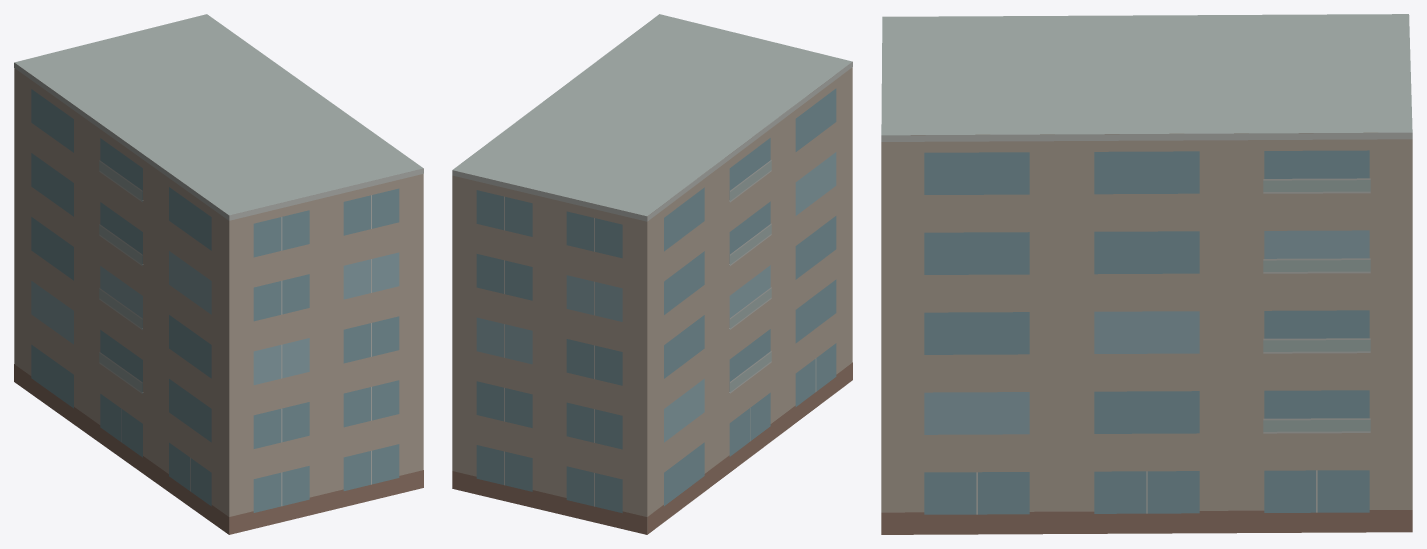
Rendered from survey-upis-32606556.glb.
3 renders of one model, left to right at view 1: azimuth 30°, elevation 25°; view 2: azimuth 150°, elevation 25°; view 3: azimuth 270°, elevation 25°, orthographic. The views are drawn at different scales.
Parts seen in each view (by area): view 1: survey-upis-32606556.tmp; view 2: survey-upis-32606556.tmp; view 3: survey-upis-32606556.tmp.
Boxes of the visible parts, bbox=[...] form: survey-upis-32606556.tmp: bbox=[14, 14, 423, 534]; survey-upis-32606556.tmp: bbox=[452, 14, 852, 534]; survey-upis-32606556.tmp: bbox=[881, 14, 1412, 534].
Bounding box in the file's own units: 9.38 × 14.4 × 17.36.
